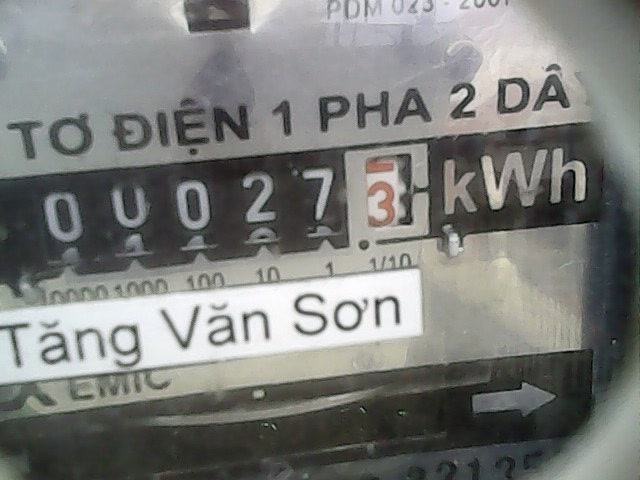phy_plate: (24, 137, 439, 269)
